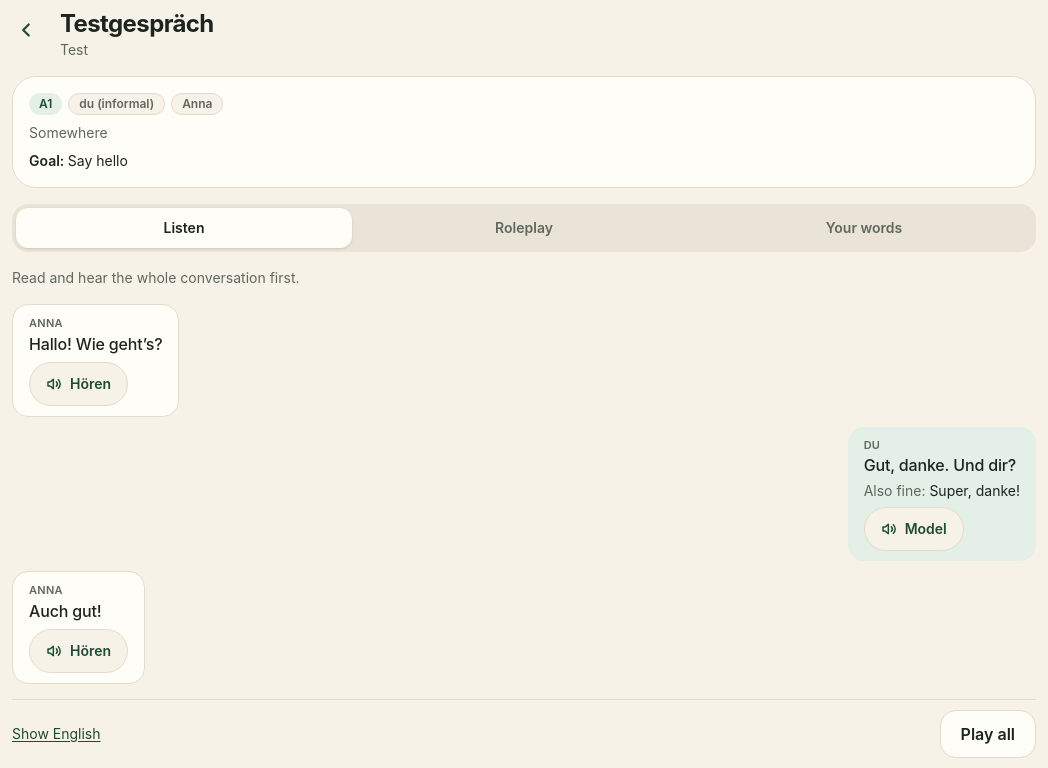
it: ConversationPage roleplay › shows English cues for learner lines in Your words mode
Expected: the heading "Testgespräch" is shown, [60,8,214,40]
Click the tab "Your words" at coordinates (864, 228), box [696,208,1032,248]
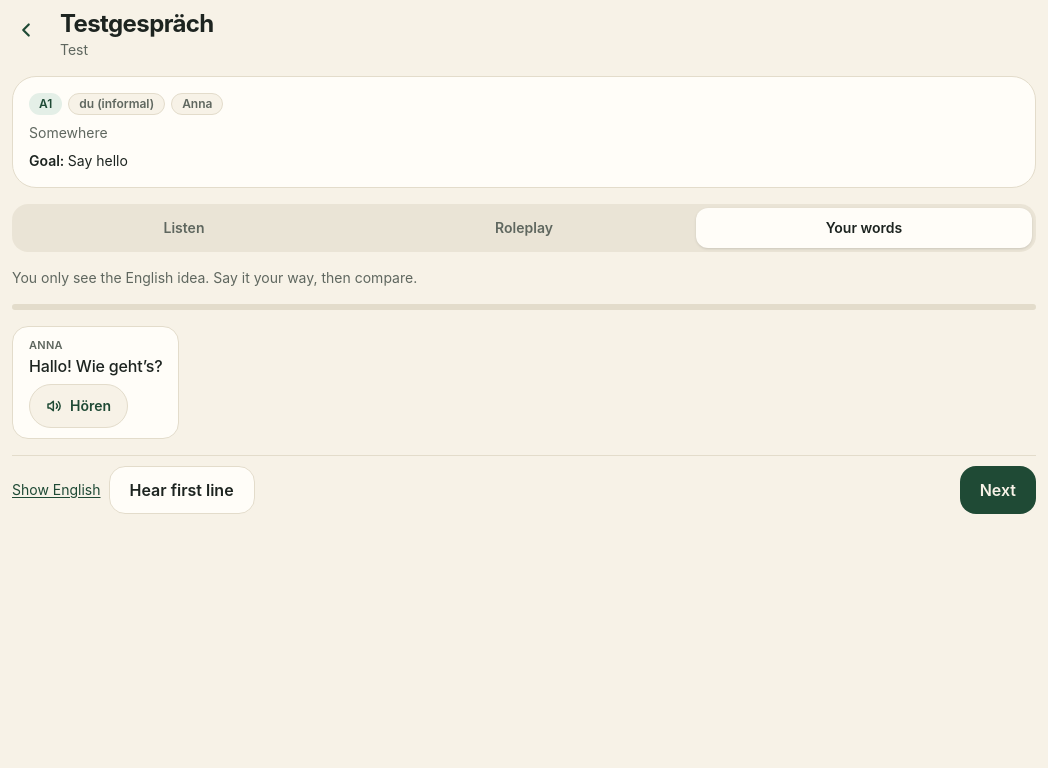
Click the button "Next" at coordinates (998, 490), box [960,466,1036,514]
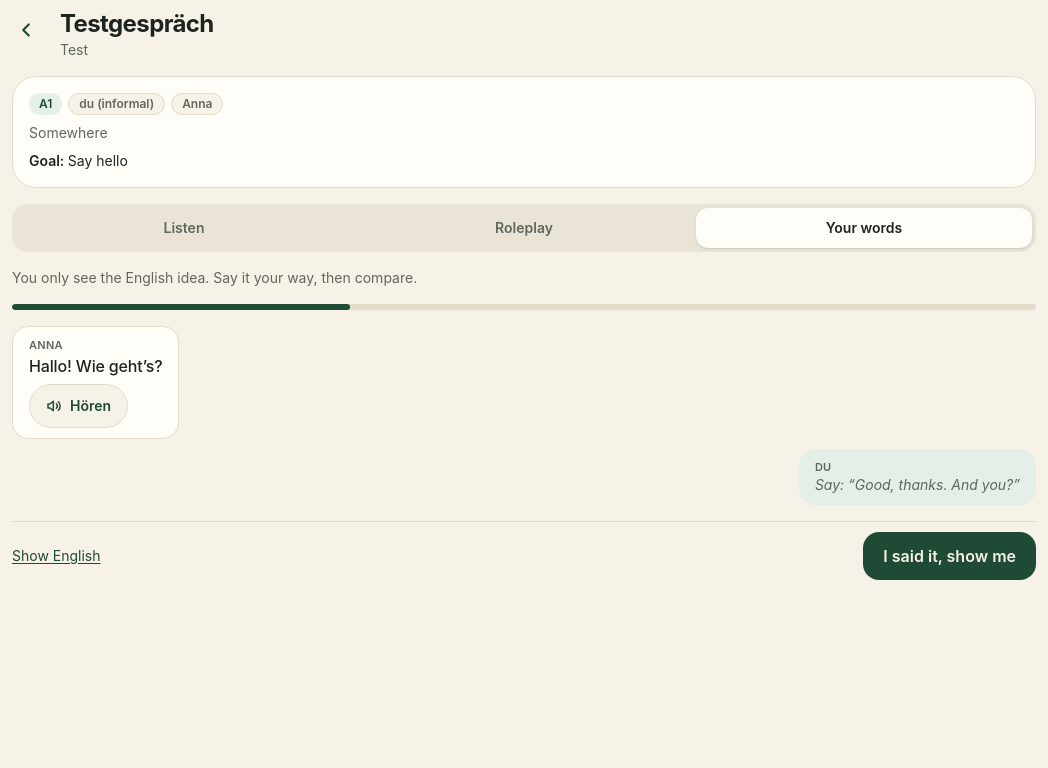
Expected: the text "Say: “Good, thanks. And you?”" is shown, [815,475,1020,495]
